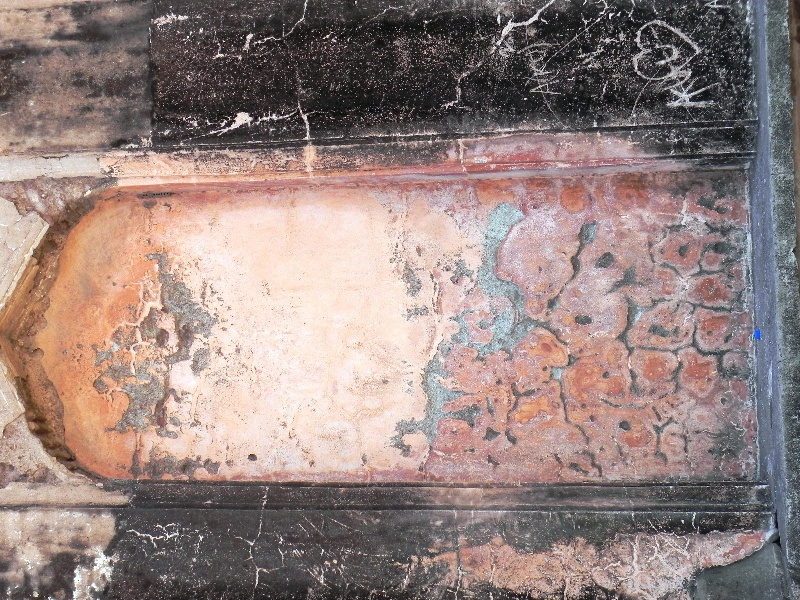Spalling: (88, 272, 228, 438)
